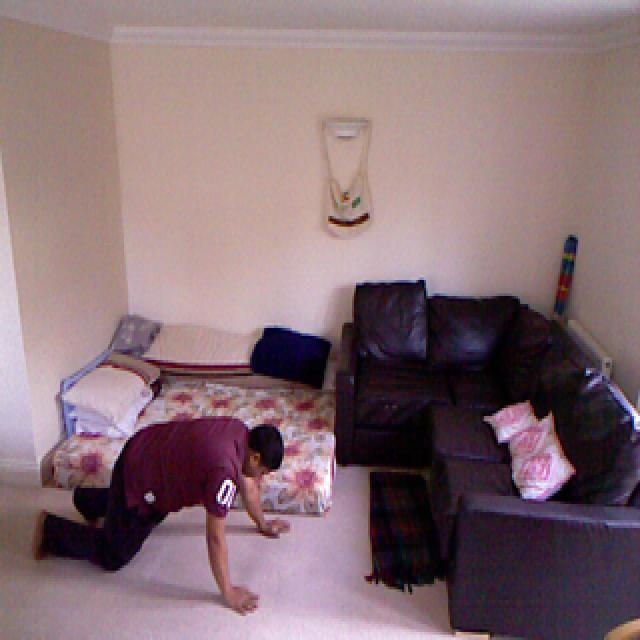Fall: (45, 378, 296, 595)
